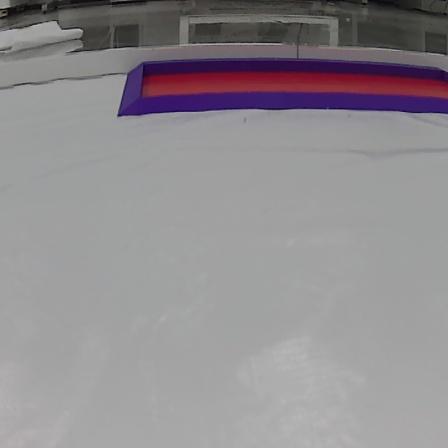red_aim: (120, 57, 446, 116)
